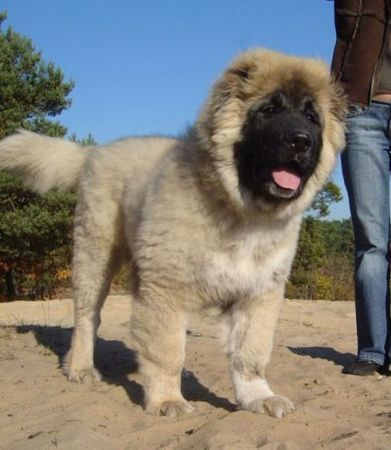cau_ovcharka: (0, 44, 347, 417)
person: (330, 0, 391, 375)
